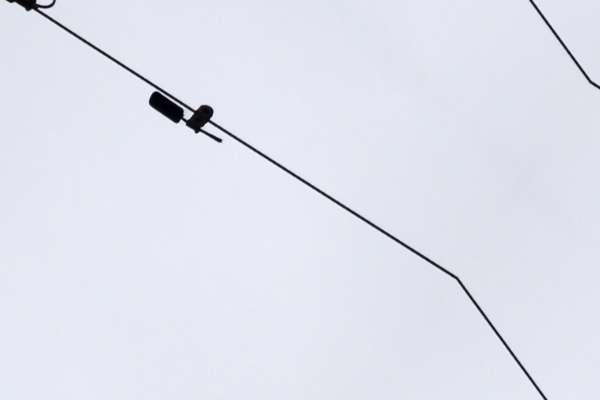damper_defect: (144, 87, 225, 147)
